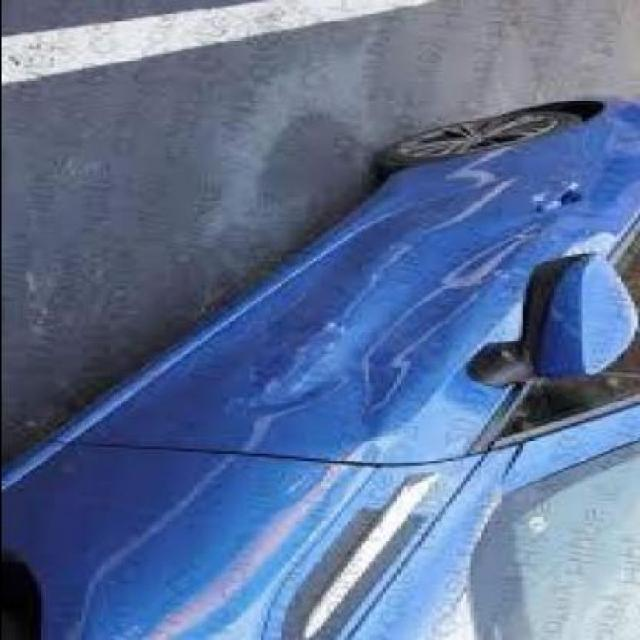damage: (225, 209, 527, 437)
